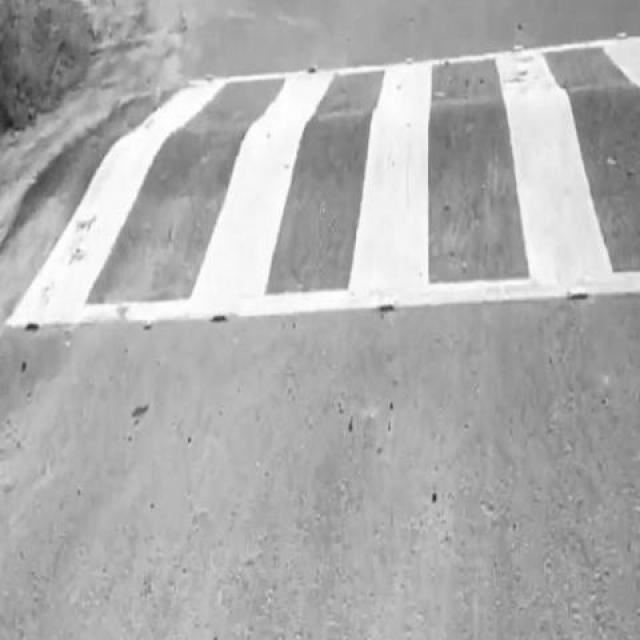Speed Bump: (0, 34, 639, 330)
